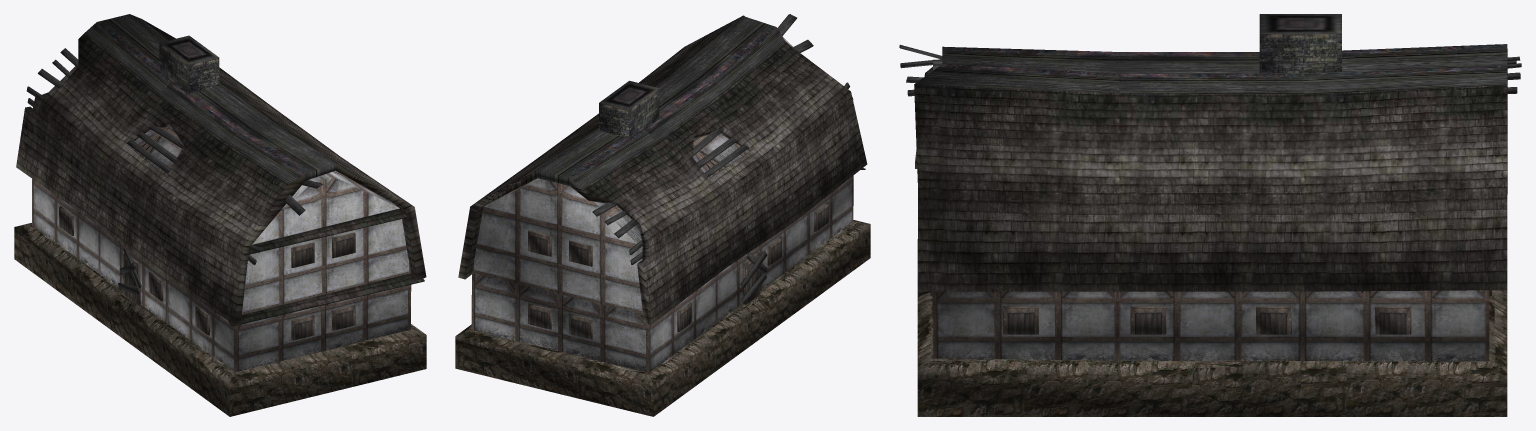
Rendered from house1-01.obj.
3 views of the same model, side by side, from view 1: azimuth 30°, elevation 25°; view 2: azimuth 150°, elevation 25°; view 3: azimuth 270°, elevation 25° (orthographic). The views are drawn at different scales.
Size of the model in its own units: 9.99 by 11.63 by 20.
